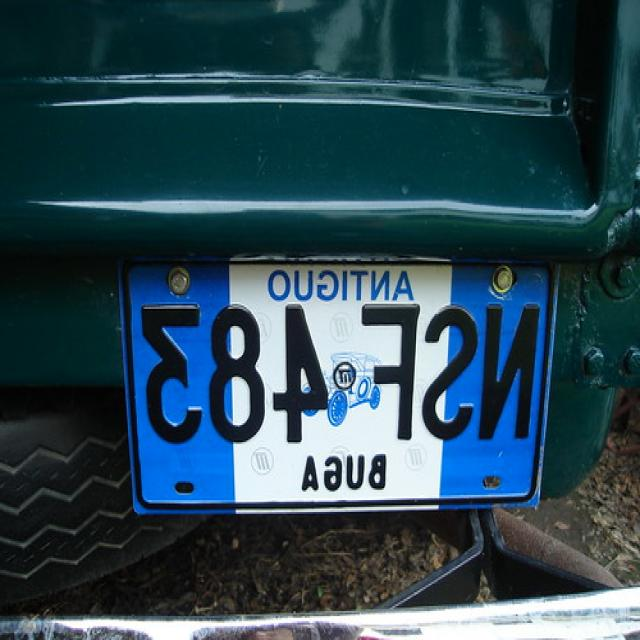placas: (131, 295, 548, 450)
